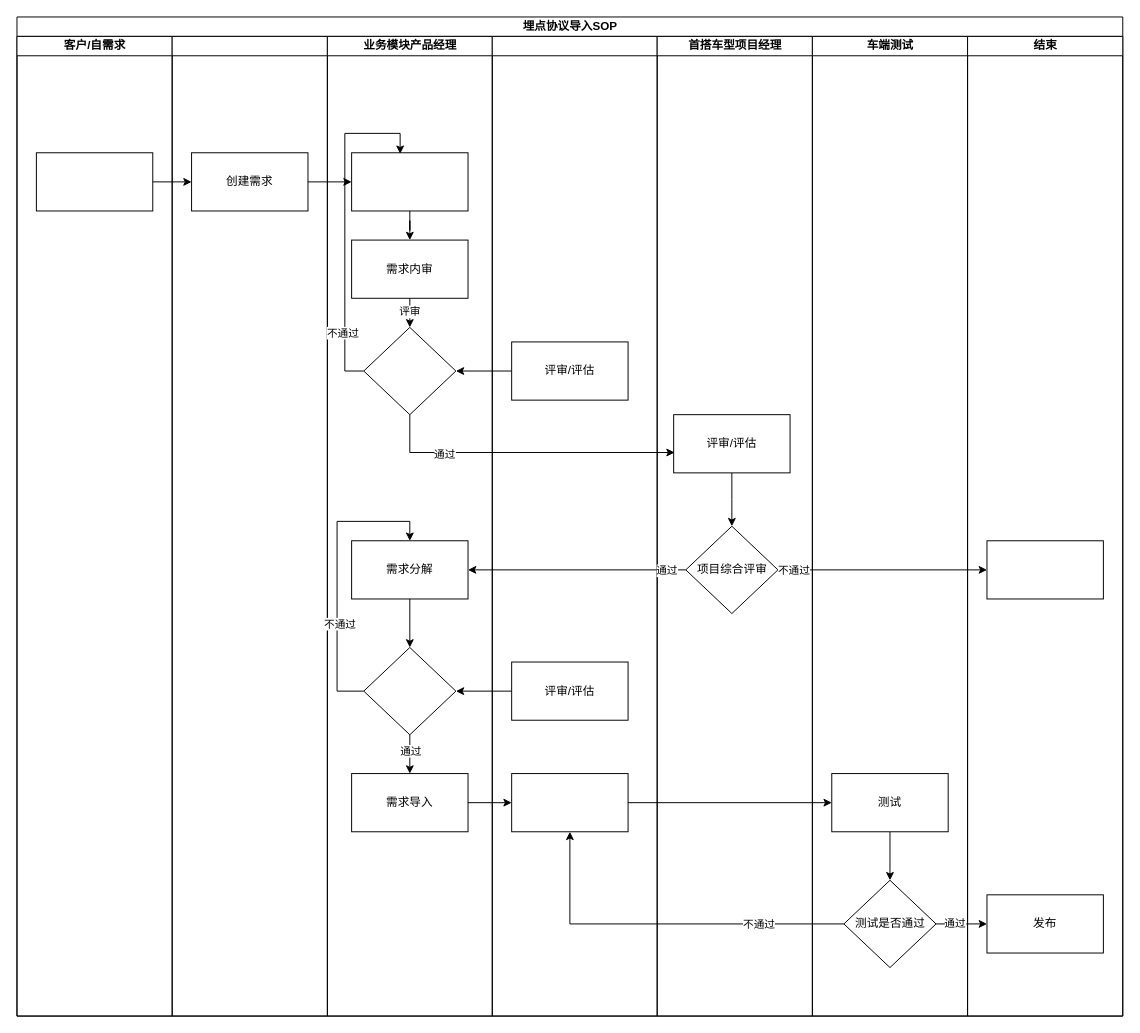
Image size: 1140x1033. Some labels were removed from this diagram. The box of each missing label's shape, as (x1, y1, x2, y2) in pixels:
产生需求: (35, 152, 153, 211)
代码开发: (511, 773, 628, 832)
关闭: (986, 540, 1103, 599)
平台/车型市场产品经理: (171, 35, 327, 1016)
平台化评审: (363, 326, 456, 415)
系统工程师: (491, 35, 657, 1016)
需求分析: (351, 152, 468, 211)
需求评审: (363, 647, 456, 735)
